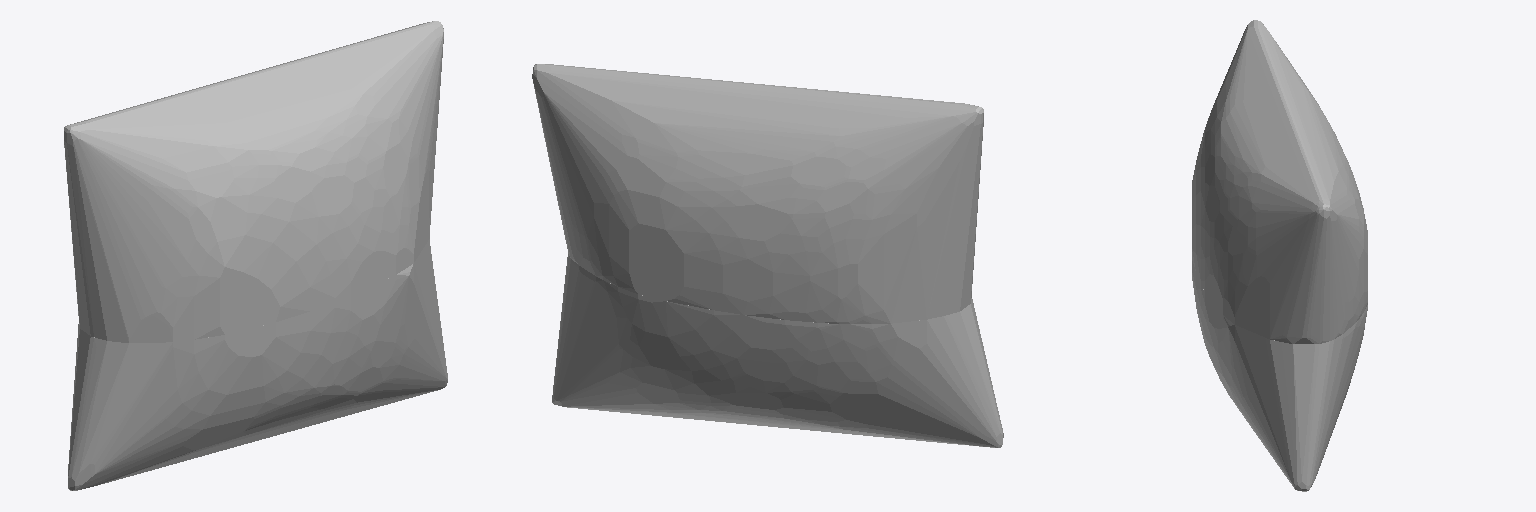
URDF robot description (root):
<robot name="root">
  <link name="link_coacd_convex_piece_0">
    <inertial>
      <origin xyz="0 0 0" rpy="0 0 0"/>
      <inertia ixx="3.48E-02" ixy="-6.07E-03" ixz="1.60E-03" iyy="6.71E-02" iyz="-5.07E-04" izz="4.75E-02"/>
    </inertial>
    <visual>
      <origin xyz="0 0 0" rpy="0 0 0"/>
      <geometry>
        <mesh filename="coacd_convex_piece_0.obj" scale="1.0000E+00 1.0000E+00 1.0000E+00"/>
      </geometry>
      <material name="">
        <color rgba="7.50E-01 7.50E-01 7.50E-01 1"/>
      </material>
    </visual>
    <collision>
      <origin xyz="0 0 0" rpy="0 0 0"/>
      <geometry>
        <mesh filename="coacd_convex_piece_0.obj" scale="1.0000E+00 1.0000E+00 1.0000E+00"/>
      </geometry>
    </collision>
  </link>
  <link name="link_coacd_convex_piece_1">
    <inertial>
      <origin xyz="0 0 0" rpy="0 0 0"/>
      <inertia ixx="3.22E-02" ixy="-4.55E-03" ixz="1.54E-03" iyy="5.69E-02" iyz="-1.05E-03" izz="3.54E-02"/>
    </inertial>
    <visual>
      <origin xyz="0 0 0" rpy="0 0 0"/>
      <geometry>
        <mesh filename="coacd_convex_piece_1.obj" scale="1.0000E+00 1.0000E+00 1.0000E+00"/>
      </geometry>
      <material name="">
        <color rgba="7.50E-01 7.50E-01 7.50E-01 1"/>
      </material>
    </visual>
    <collision>
      <origin xyz="0 0 0" rpy="0 0 0"/>
      <geometry>
        <mesh filename="coacd_convex_piece_1.obj" scale="1.0000E+00 1.0000E+00 1.0000E+00"/>
      </geometry>
    </collision>
  </link>
  <joint name="link_coacd_convex_piece_1_joint" type="fixed">
    <origin xyz="0 0 0" rpy="0 0 0"/>
    <parent link="link_coacd_convex_piece_0"/>
    <child link="link_coacd_convex_piece_1"/>
  </joint>
</robot>

--- What the picture shows (computed from the rendered views, not written in the file) ---
The picture shows the robot from 3 angles, left to right: view 1: azimuth 30°, elevation 25°; view 2: azimuth 150°, elevation 25°; view 3: azimuth 270°, elevation 25°; orthographic projection.
Robot: root — 2 links, 1 joints (1 fixed); root link link_coacd_convex_piece_0; default pose: all joints at 0.
Visible links, largest first — view 1: link_coacd_convex_piece_0, link_coacd_convex_piece_1; view 2: link_coacd_convex_piece_0, link_coacd_convex_piece_1; view 3: link_coacd_convex_piece_0, link_coacd_convex_piece_1.
Link boxes in pixels (left/top/right/bottom): link_coacd_convex_piece_0: left=64, top=21, right=443, bottom=342; link_coacd_convex_piece_1: left=68, top=239, right=447, bottom=490; link_coacd_convex_piece_0: left=532, top=64, right=983, bottom=323; link_coacd_convex_piece_1: left=552, top=254, right=1003, bottom=447; link_coacd_convex_piece_0: left=1192, top=20, right=1367, bottom=343; link_coacd_convex_piece_1: left=1192, top=261, right=1367, bottom=491.
Size in the robot's own frame: 1.53 by 0.6632 by 1.29 metres.
2 mesh visuals loaded from 2 distinct referenced files (2 OBJ).
